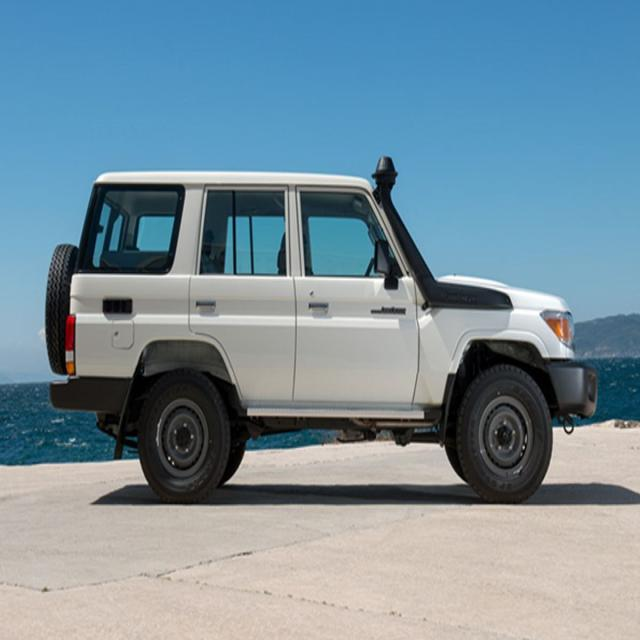light_vehicle: (29, 160, 606, 507)
